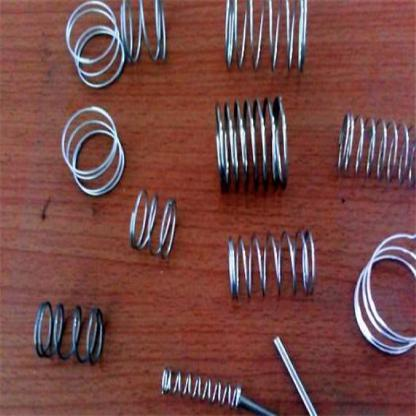FOD: (214, 91, 290, 198), (352, 228, 415, 356), (221, 223, 317, 304), (219, 0, 311, 76), (57, 104, 126, 203), (333, 110, 415, 191), (65, 0, 124, 93), (34, 300, 106, 366), (157, 366, 243, 415), (118, 0, 169, 69), (129, 188, 176, 259)
